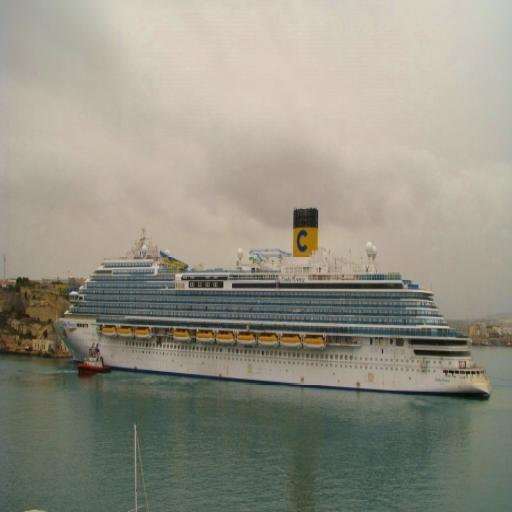cruises: (48, 205, 495, 410)
